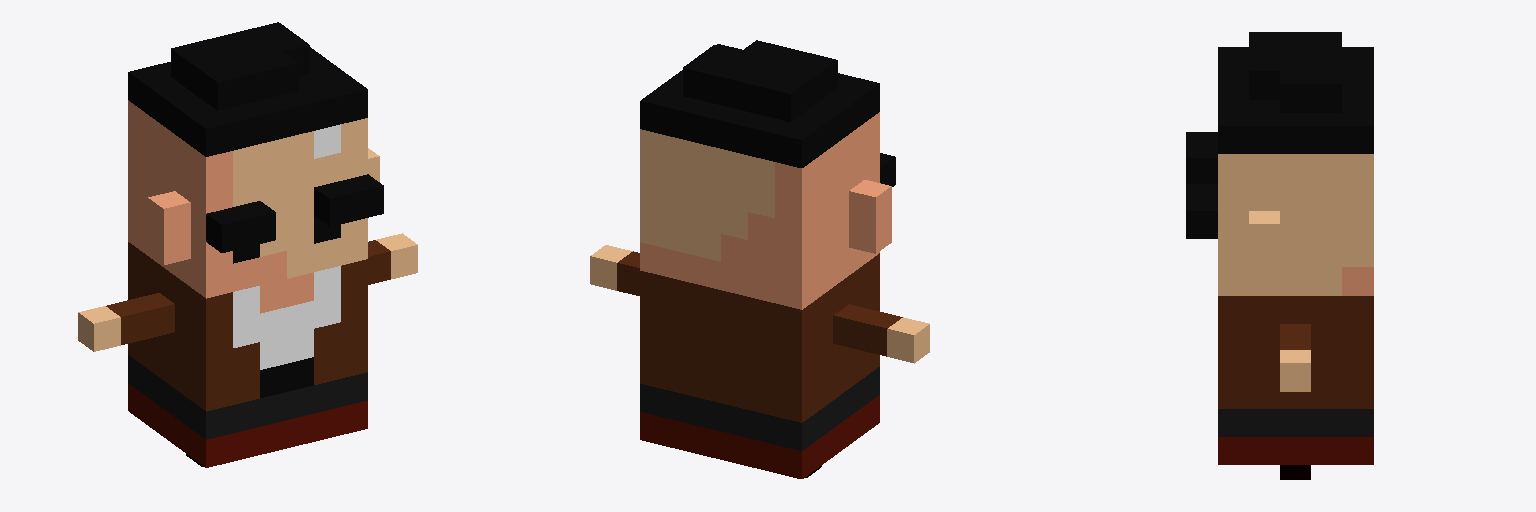
The picture shows the model from 3 angles: view 1: azimuth 30°, elevation 25°; view 2: azimuth 150°, elevation 25°; view 3: azimuth 270°, elevation 25°; orthographic projection.
Visible parts, largest first — view 1: crt_npc2; view 2: crt_npc2; view 3: crt_npc2.
Part boxes in pixels (left/top/right/bottom): crt_npc2: left=78, top=22, right=417, bottom=467; crt_npc2: left=590, top=40, right=929, bottom=478; crt_npc2: left=1186, top=32, right=1373, bottom=479.
Bounding box in the file's own units: 12 × 14 × 6.
1 materials, 1 textured.